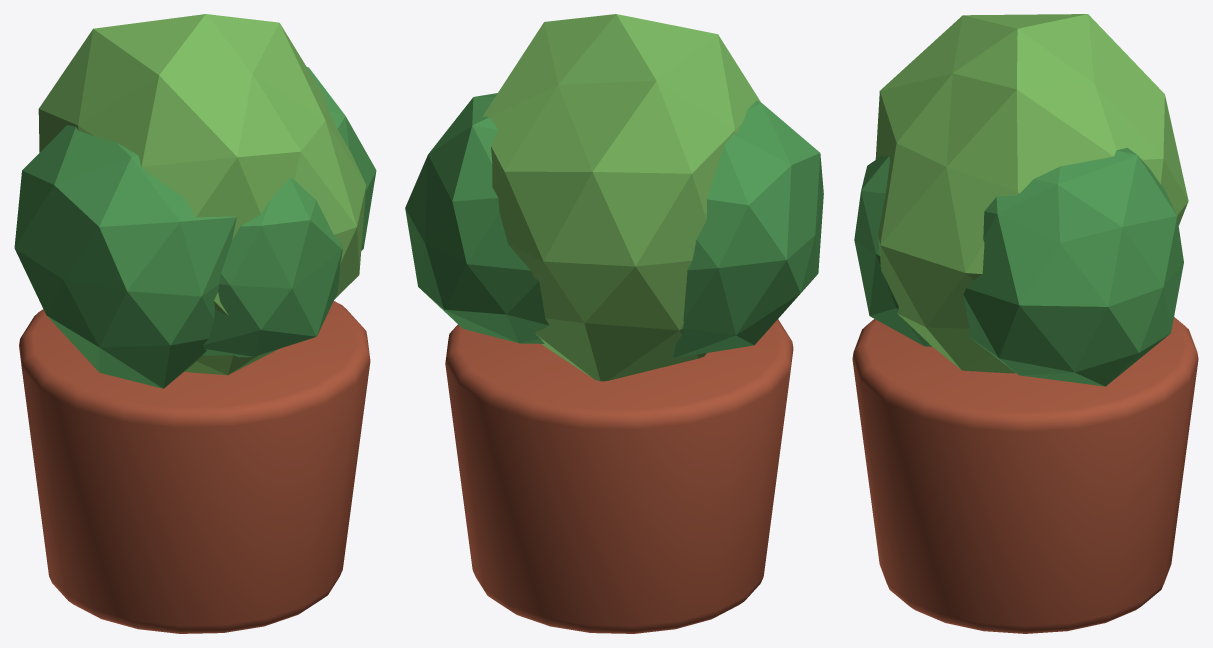
The model's file is vaso_planta.glb.
3 views of the same model, side by side, from view 1: azimuth 30°, elevation 25°; view 2: azimuth 150°, elevation 25°; view 3: azimuth 270°, elevation 25° (orthographic). The views are drawn at different scales.
Parts seen in each view (by area): view 1: Cone, Icosphere, Icosphere.002, Icosphere.003, Icosphere.001; view 2: Cone, Icosphere, Icosphere.002, Icosphere.001; view 3: Cone, Icosphere, Icosphere.001, Icosphere.003.
Part boxes in pixels (x1=…): Cone: x1=19, y1=301, x2=370, y2=633; Icosphere: x1=38, y1=14, x2=366, y2=375; Icosphere.002: x1=14, y1=125, x2=236, y2=388; Icosphere.003: x1=202, y1=178, x2=342, y2=357; Icosphere.001: x1=307, y1=67, x2=376, y2=250; Cone: x1=445, y1=319, x2=793, y2=633; Icosphere: x1=482, y1=14, x2=760, y2=381; Icosphere.002: x1=671, y1=100, x2=823, y2=358; Icosphere.001: x1=405, y1=93, x2=549, y2=343; Cone: x1=852, y1=317, x2=1198, y2=633; Icosphere: x1=875, y1=14, x2=1188, y2=373; Icosphere.001: x1=963, y1=147, x2=1183, y2=386; Icosphere.003: x1=854, y1=155, x2=932, y2=346.
Size of the model in its own units: 0.7765 by 1.19 by 0.6729.
